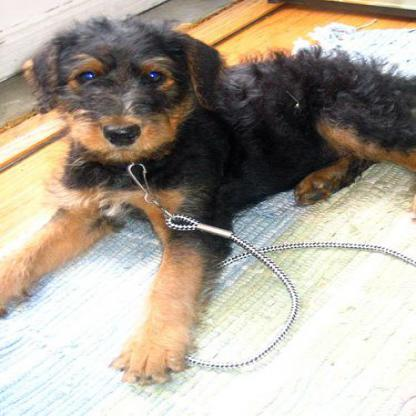dog: (24, 16, 399, 319)
